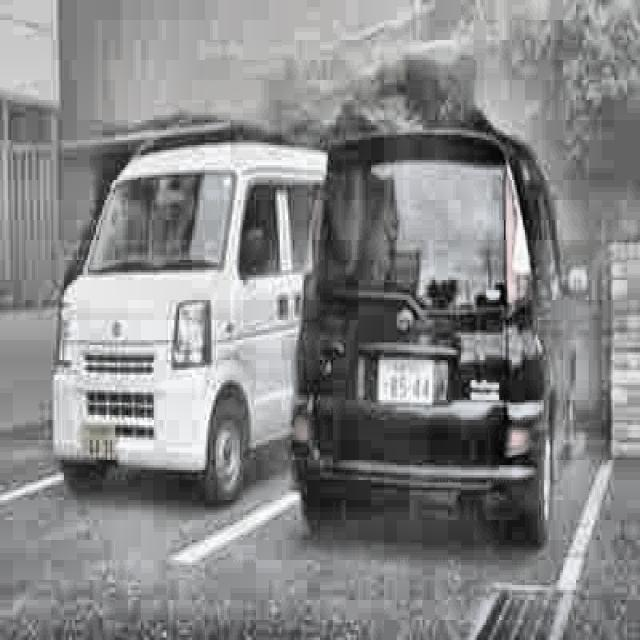license_plate: (377, 356, 434, 410), (78, 424, 119, 464)
